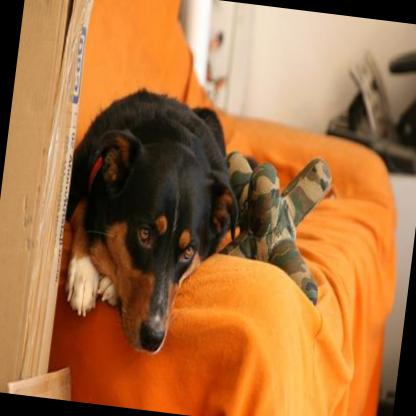Appenzeller: (50, 84, 252, 360)
